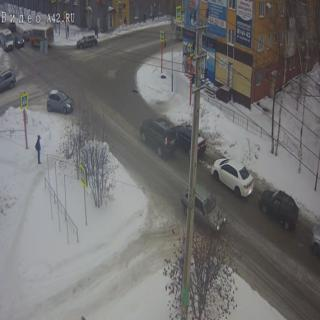small-vehicle: (178, 178, 226, 234), (212, 149, 252, 198), (262, 184, 298, 234), (139, 116, 176, 159), (173, 116, 197, 157), (46, 90, 73, 119), (28, 27, 58, 50), (307, 212, 320, 258), (0, 66, 16, 93), (76, 34, 102, 50), (0, 26, 11, 50), (14, 32, 24, 53)
